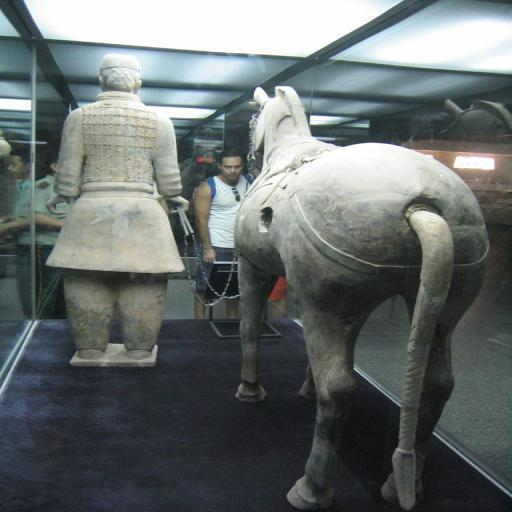horse: (232, 84, 492, 512)
